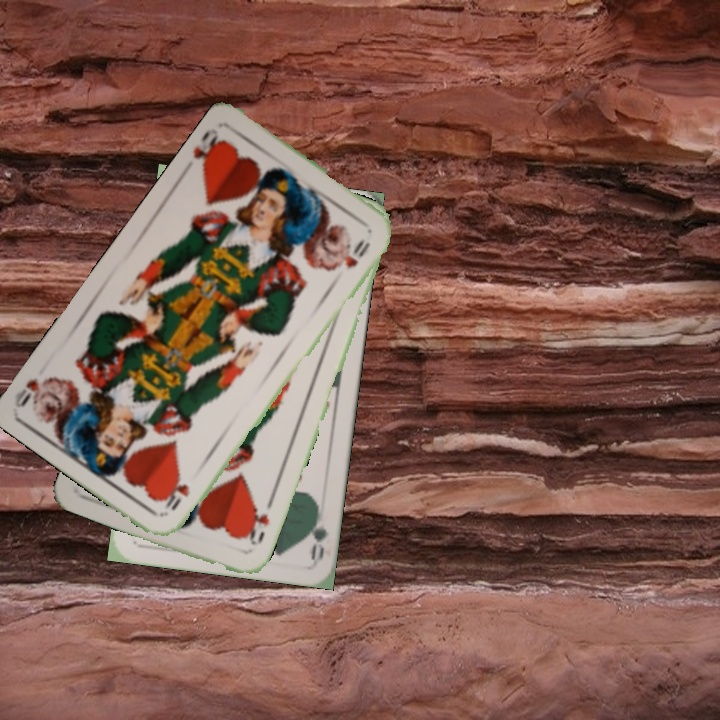GO: (304, 502, 331, 562)
HO: (189, 124, 228, 173), (240, 503, 272, 548), (160, 479, 192, 514)
